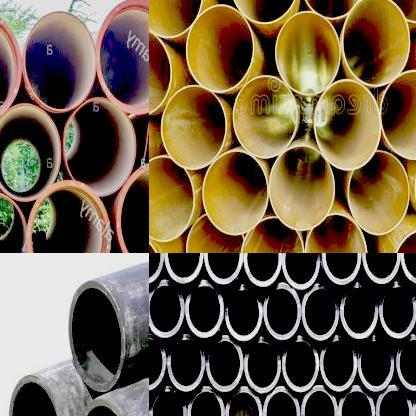pipe: (24, 11, 96, 112), (62, 98, 136, 196), (68, 280, 126, 392), (95, 0, 149, 114), (27, 180, 111, 253), (0, 103, 61, 202), (314, 79, 380, 170), (186, 5, 254, 92), (342, 0, 410, 86), (159, 85, 227, 170), (203, 150, 268, 236), (269, 146, 335, 230), (275, 11, 341, 94), (232, 76, 297, 158), (348, 150, 410, 235), (149, 154, 195, 242), (379, 69, 416, 160), (116, 161, 149, 253), (304, 212, 368, 253), (239, 215, 304, 253), (0, 10, 21, 123), (8, 375, 63, 416), (186, 215, 244, 253), (167, 334, 205, 391), (320, 334, 357, 392), (282, 336, 320, 392), (244, 337, 282, 393), (186, 280, 224, 336), (340, 283, 378, 339), (225, 285, 263, 341), (302, 283, 338, 341), (206, 336, 243, 392), (149, 0, 203, 38), (149, 280, 185, 337), (379, 283, 416, 338), (264, 283, 300, 339), (149, 27, 171, 115), (358, 338, 393, 392), (230, 0, 299, 25), (0, 192, 27, 253), (282, 253, 320, 288), (300, 0, 366, 19), (243, 253, 281, 286), (203, 253, 243, 284), (322, 253, 360, 285), (362, 253, 401, 284), (164, 253, 203, 284), (375, 386, 412, 416), (225, 386, 262, 416), (263, 386, 300, 416), (149, 386, 186, 416), (396, 336, 416, 390), (301, 386, 337, 416), (188, 387, 224, 416), (149, 332, 166, 390), (339, 389, 374, 416), (400, 253, 416, 284), (149, 253, 164, 284)
